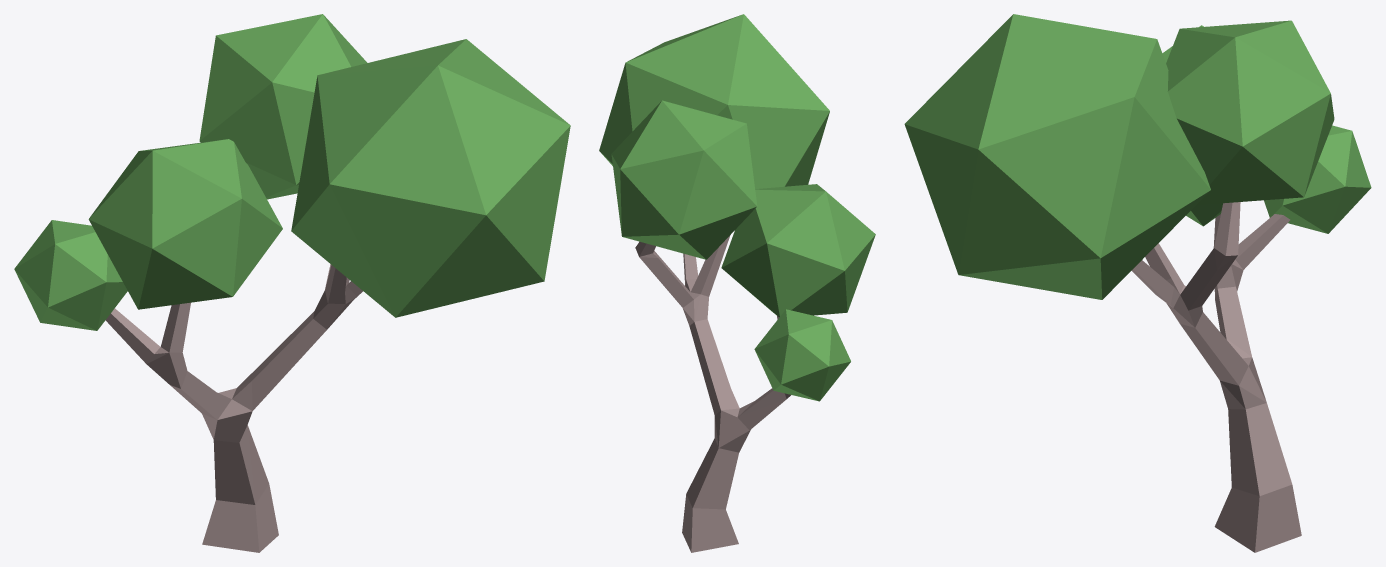
The model's file is medium_tree_3.fbx.
3 renders of one model, left to right at view 1: azimuth 30°, elevation 25°; view 2: azimuth 150°, elevation 25°; view 3: azimuth 270°, elevation 25°, orthographic. The views are drawn at different scales.
Visible parts, largest first — view 1: Icosphere.002, Icosphere, Icosphere.003, wood, Icosphere.001; view 2: Icosphere.002, Icosphere.003, Icosphere, wood, Icosphere.001; view 3: Icosphere.002, Icosphere.003, wood, Icosphere.001, Icosphere.
Part boxes in pixels (x1,y1,x2,y2): Icosphere.002: [291, 39, 570, 317]; Icosphere: [88, 139, 282, 309]; Icosphere.003: [199, 14, 367, 199]; wood: [105, 264, 362, 552]; Icosphere.001: [14, 220, 127, 330]; Icosphere.002: [599, 14, 829, 188]; Icosphere.003: [611, 100, 757, 259]; Icosphere: [721, 184, 875, 317]; wood: [635, 235, 790, 552]; Icosphere.001: [754, 309, 850, 401]; Icosphere.002: [904, 14, 1210, 299]; Icosphere.003: [1166, 20, 1334, 205]; wood: [1131, 202, 1301, 552]; Icosphere.001: [1264, 125, 1371, 233]; Icosphere: [1162, 25, 1222, 226].
Size of the model in its own units: 247 by 251 by 326.
